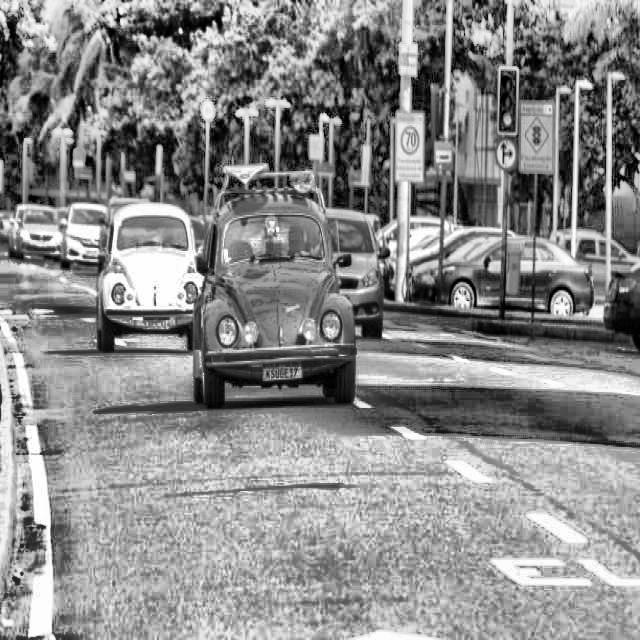carro: (192, 182, 356, 408), (92, 195, 204, 343), (15, 199, 61, 264), (63, 203, 110, 263)
